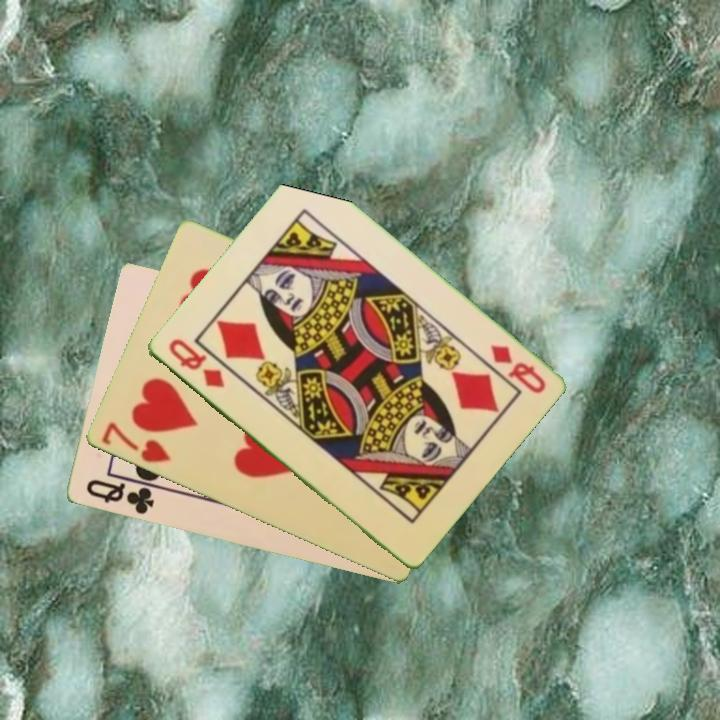7h: (97, 419, 174, 467)
Qc: (82, 472, 162, 518)
Qd: (164, 335, 227, 391), (485, 341, 548, 397)
